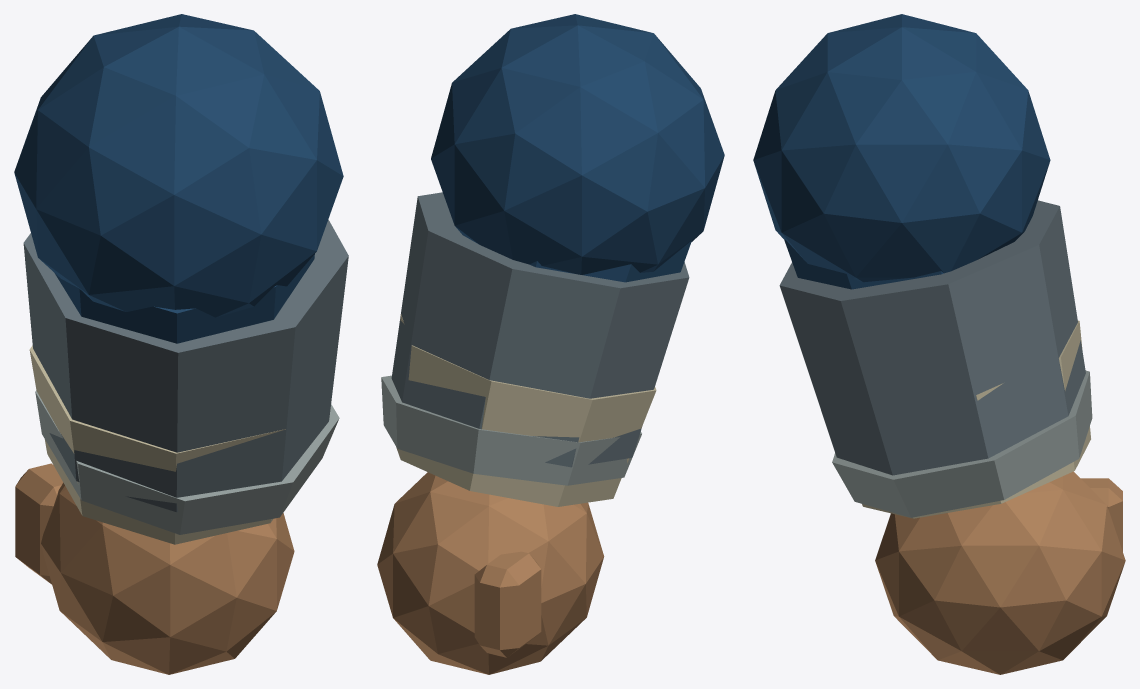
The model's file is ForearmRight.glb.
The picture shows the model from 3 angles, left to right: view 1: azimuth 30°, elevation 25°; view 2: azimuth 150°, elevation 25°; view 3: azimuth 270°, elevation 25°; orthographic projection. The views are drawn at different scales.
Parts seen in each view (by area): view 1: Sculpture; view 2: Sculpture; view 3: Sculpture.
Boxes of the visible parts, x1=… form: Sculpture: x1=14, y1=14, x2=348, y2=674; Sculpture: x1=377, y1=14, x2=724, y2=674; Sculpture: x1=753, y1=14, x2=1125, y2=674.
Size of the model in its own units: 0.1813 by 0.382 by 0.208.
